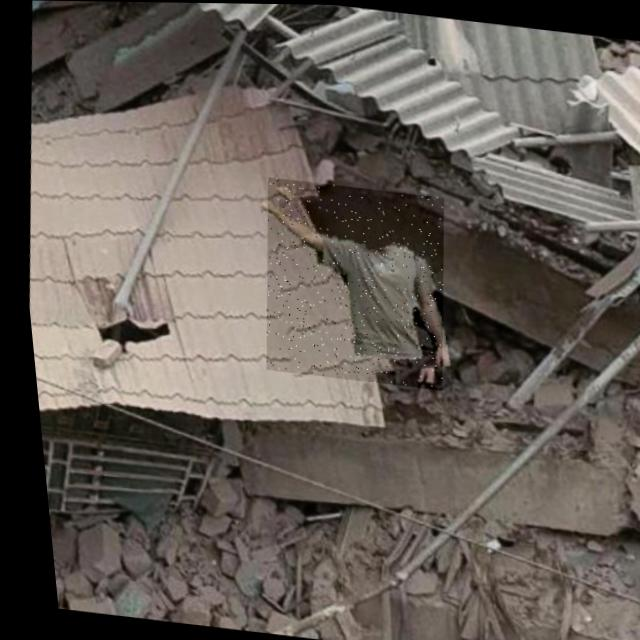Person in Rubble: (244, 176, 454, 389)
